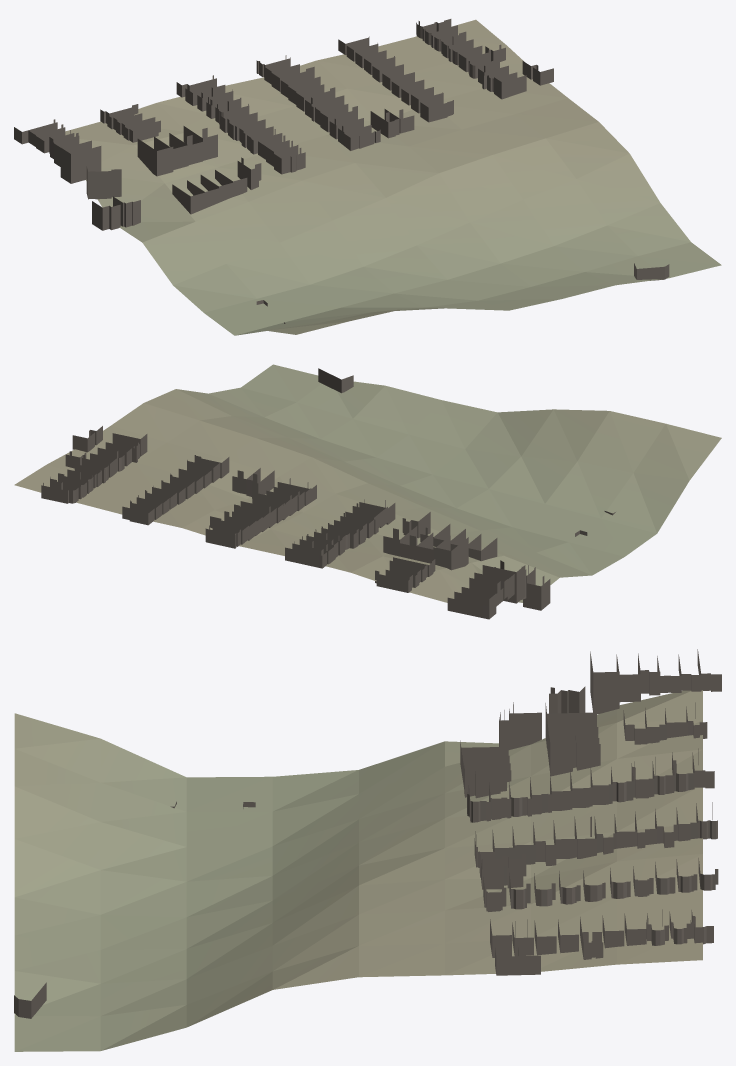
Rendered from tile_11_-13_lod1.gltf.
The picture shows the model from 3 angles, top to bottom: view 1: azimuth 30°, elevation 25°; view 2: azimuth 150°, elevation 25°; view 3: azimuth 270°, elevation 25°; orthographic projection. The views are drawn at different scales.
Parts seen in each view (by area): view 1: Terrain_col, Buildings_col; view 2: Terrain_col, Buildings_col; view 3: Terrain_col, Buildings_col.
Boxes of the visible parts, x1,y1,x2,y2 form: Terrain_col: (65, 19, 721, 335); Buildings_col: (14, 19, 669, 323); Terrain_col: (14, 364, 721, 602); Buildings_col: (41, 368, 615, 619); Terrain_col: (14, 690, 702, 1051); Buildings_col: (14, 649, 721, 1018).
Size of the model in its own units: 277 by 50.05 by 263.
